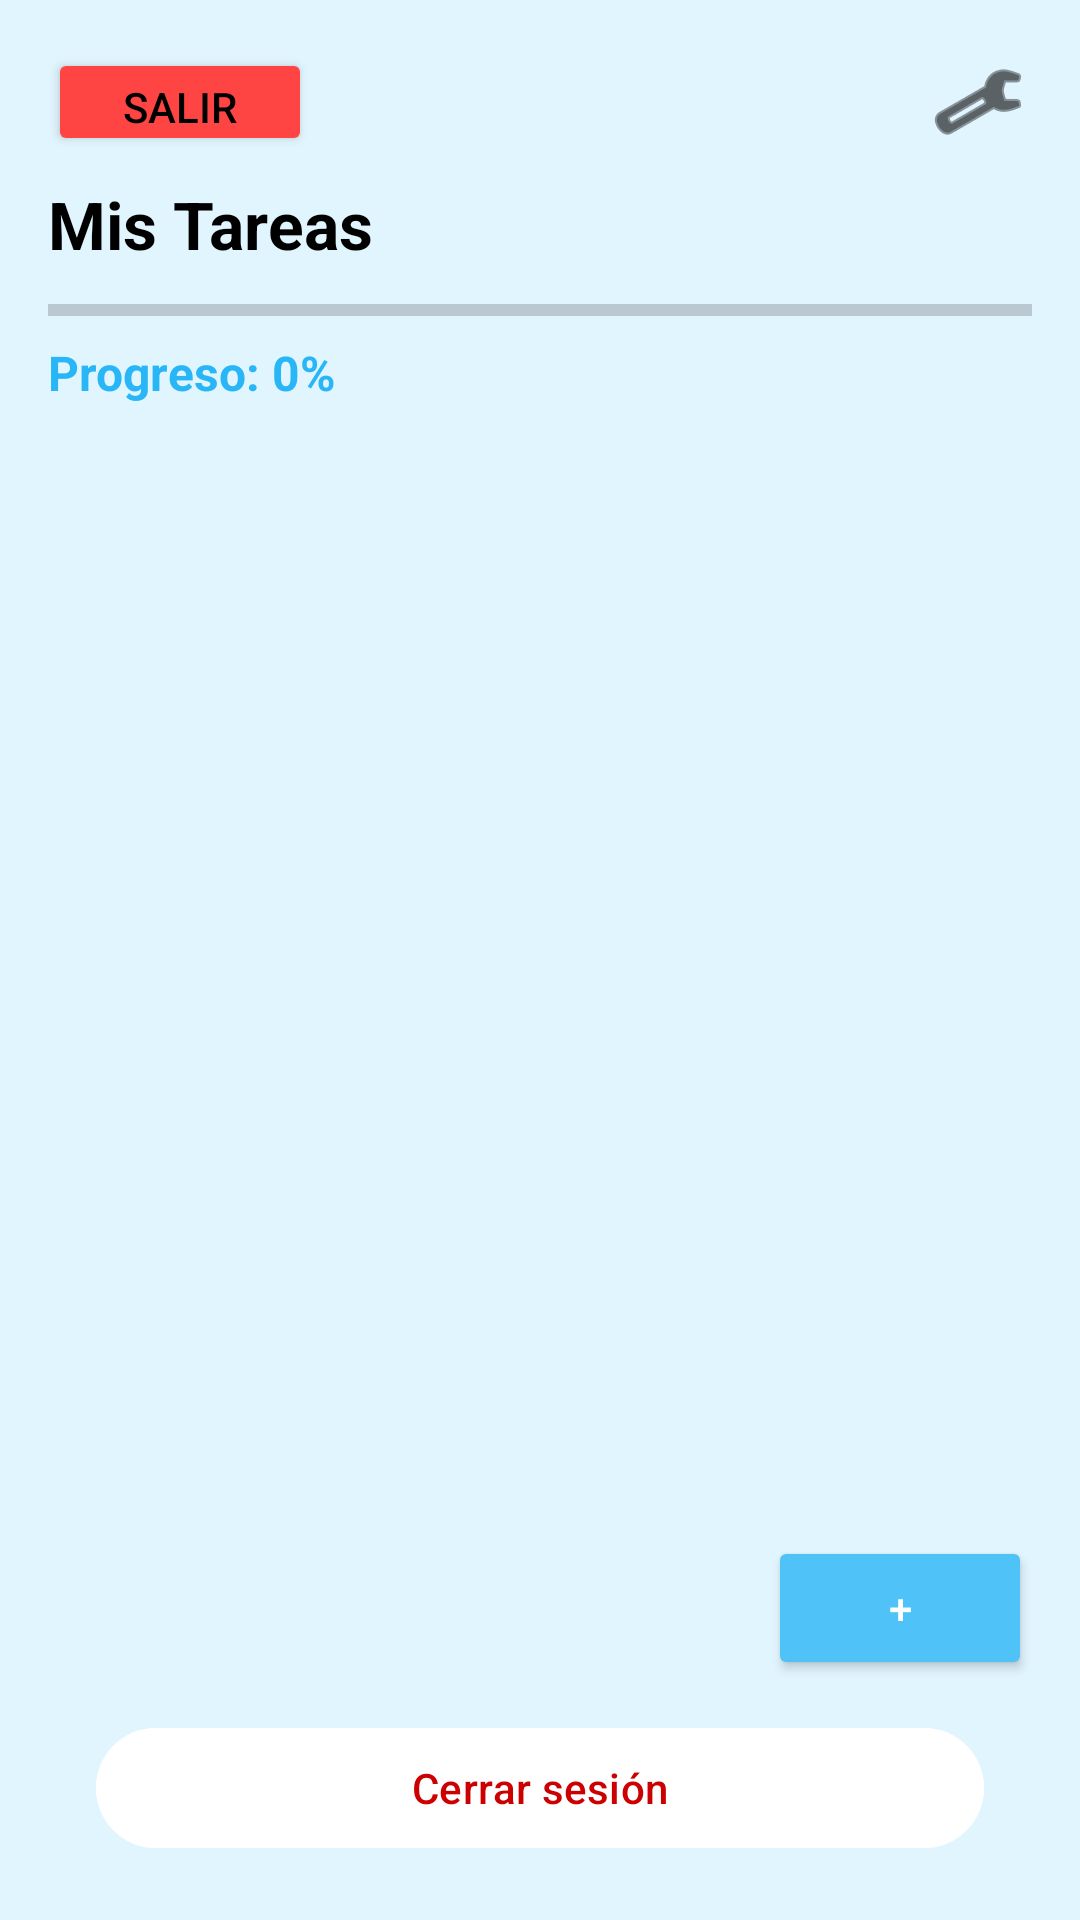

Point at icon controls on the screen. Image size 1080w x 1920h, points as [x,y].
Configurar: [978,102]
